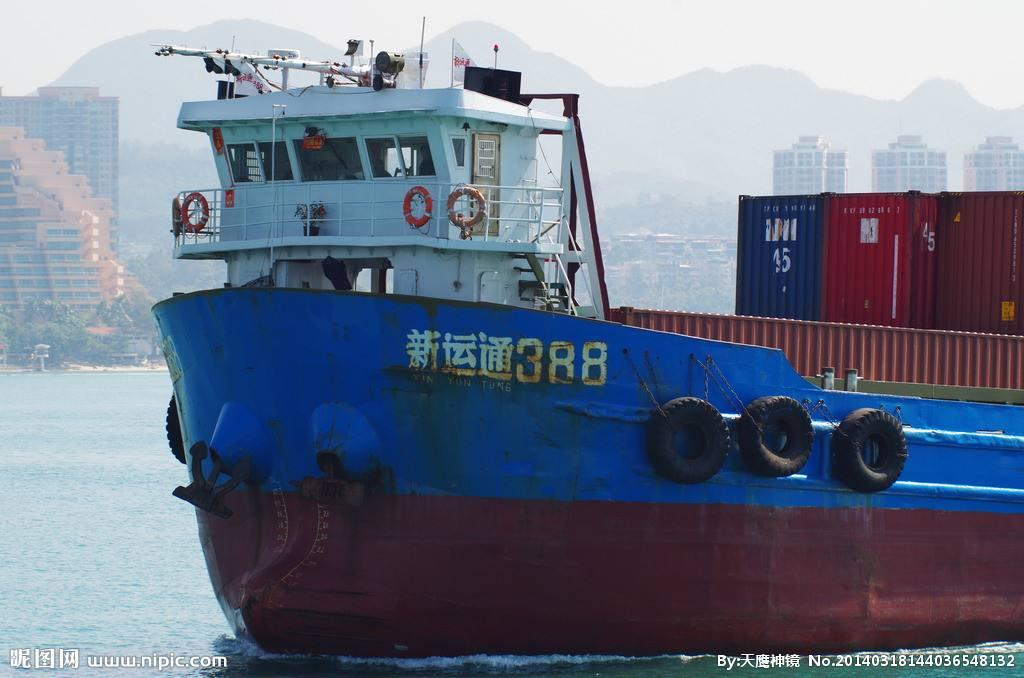Cargoship: (140, 21, 1024, 647)
